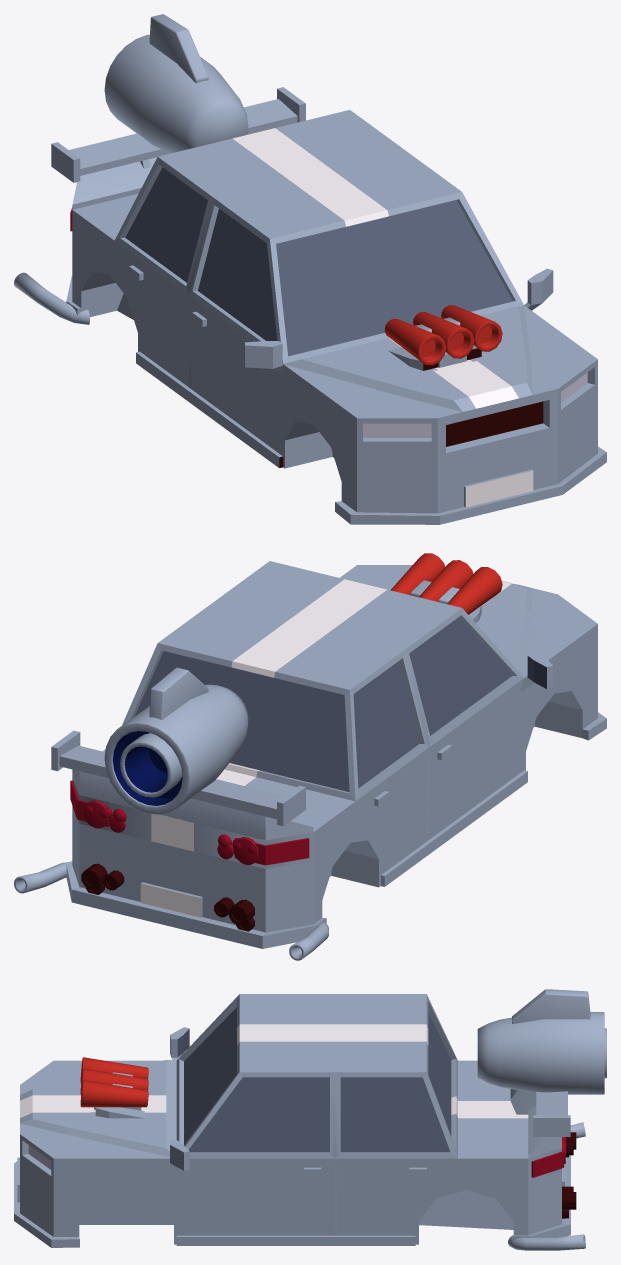
File: newCar3.fbx
3 views of the same model, one above another, from view 1: azimuth 30°, elevation 25°; view 2: azimuth 150°, elevation 25°; view 3: azimuth 270°, elevation 25° (orthographic). The views are drawn at different scales.
Visible parts, largest first — view 1: carcas, doors3, engine3, bumper1, spoiler3, bumper3, doors1, bumper2, spoiler2, spoiler1, doors2, engine2; view 2: carcas, doors3, spoiler3, bumper3, bumper1, bumper2, engine3, doors1, doors2, spoiler2, spoiler1, Lighting2.002 (+2 smaller); view 3: carcas, doors3, doors1, engine3, spoiler3, doors2, bumper3, bumper2, bumper1, spoiler2, spoiler1, Lighting2.002 (+1 smaller).
Part boxes in pixels (bbox=[...]): carcas: bbox=[72, 110, 597, 511]; doors3: bbox=[115, 167, 552, 467]; engine3: bbox=[283, 305, 597, 418]; bumper1: bbox=[357, 388, 597, 513]; spoiler3: bbox=[104, 14, 248, 153]; bumper3: bbox=[14, 272, 606, 524]; doors1: bbox=[115, 239, 553, 455]; bumper2: bbox=[66, 276, 604, 524]; spoiler2: bbox=[51, 87, 305, 182]; spoiler1: bbox=[72, 157, 156, 209]; doors2: bbox=[136, 291, 283, 467]; engine2: bbox=[388, 345, 484, 372]; carcas: bbox=[72, 561, 597, 923]; doors3: bbox=[135, 617, 553, 886]; spoiler3: bbox=[104, 667, 248, 814]; bumper3: bbox=[14, 712, 606, 960]; bumper1: bbox=[72, 811, 313, 932]; bumper2: bbox=[66, 719, 606, 948]; engine3: bbox=[340, 553, 597, 677]; doors1: bbox=[339, 661, 553, 874]; doors2: bbox=[381, 708, 527, 886]; spoiler2: bbox=[51, 730, 305, 826]; spoiler1: bbox=[72, 769, 313, 840]; Lighting2.002: bbox=[70, 780, 309, 865]; carcas: bbox=[20, 994, 561, 1244]; doors3: bbox=[170, 1007, 456, 1245]; doors1: bbox=[170, 1032, 457, 1235]; engine3: bbox=[20, 1057, 169, 1158]; spoiler3: bbox=[477, 989, 606, 1114]; doors2: bbox=[176, 1182, 415, 1245]; bumper3: bbox=[14, 1122, 585, 1250]; bumper2: bbox=[20, 1132, 576, 1247]; bumper1: bbox=[17, 1155, 568, 1236]; spoiler2: bbox=[533, 1091, 570, 1136]; spoiler1: bbox=[528, 1106, 561, 1158]; Lighting2.002: bbox=[531, 1139, 564, 1177].
Bounding box in the file's own units: 2.81 × 2.19 × 5.62.
